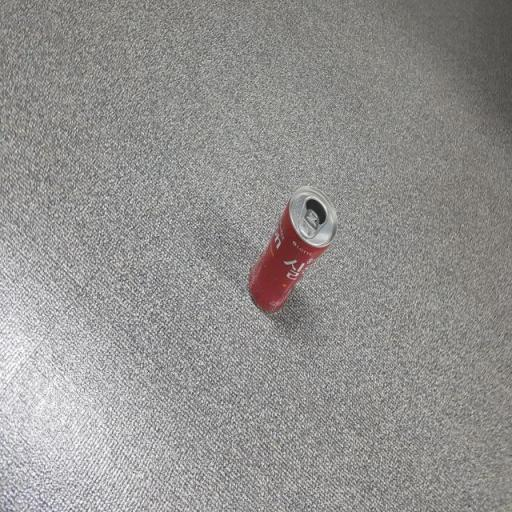metal: (232, 177, 348, 328)
